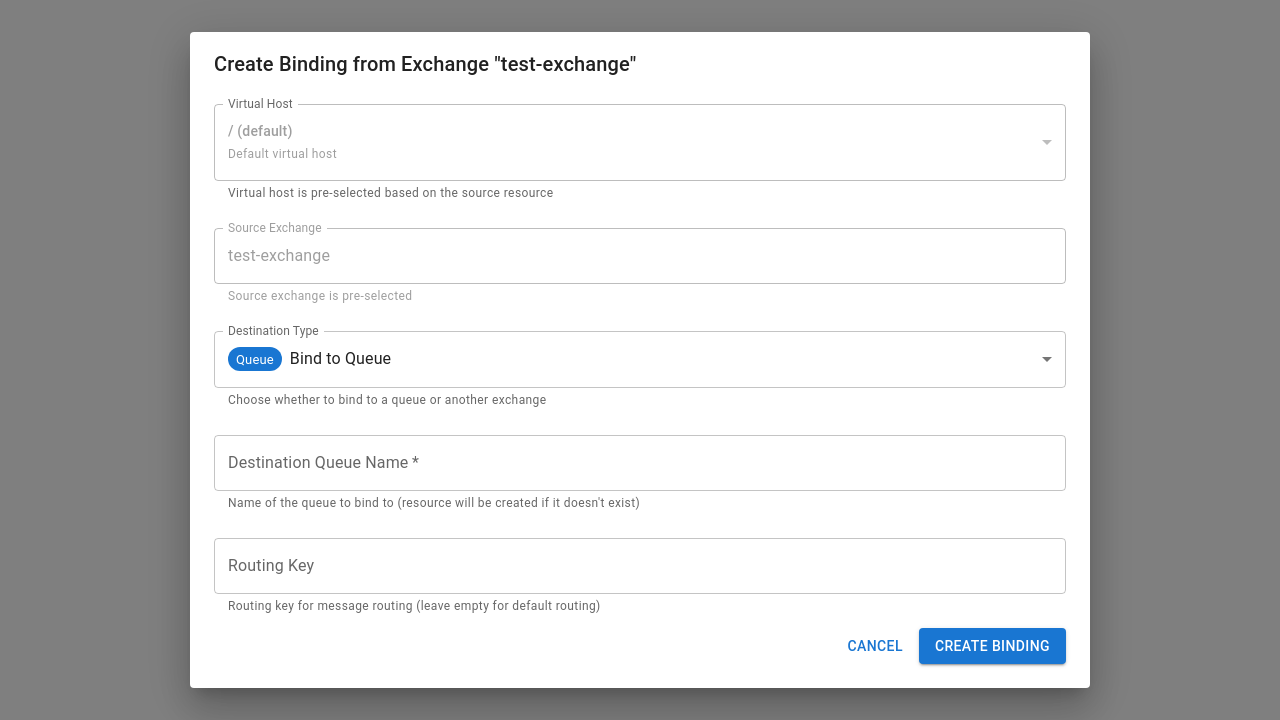
CreateBindingDialog › Form Validation › validates required destination field
This screenshot has width=1280, height=720.
Click the button "Create Binding" at (992, 646), box x1=919 y1=628 x2=1066 y2=664
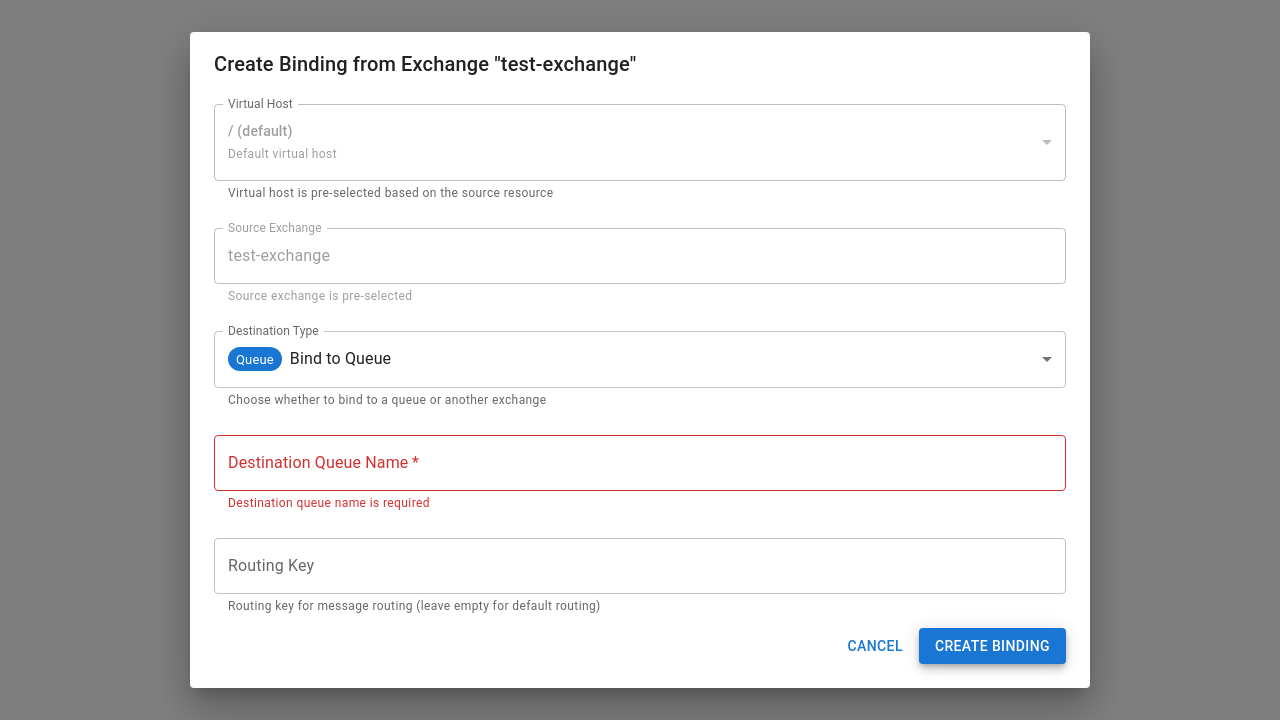
Check: the text "Destination queue name is required" is shown, box x1=228 y1=496 x2=430 y2=510
